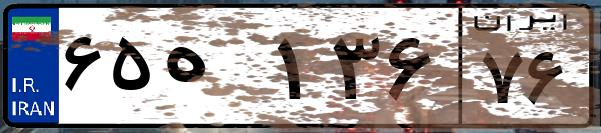1: (270, 28, 330, 110)
3: (330, 28, 385, 110)
5: (110, 28, 158, 98)
6: (385, 28, 445, 110), (57, 26, 110, 100), (525, 38, 570, 115)
7: (475, 38, 525, 113)
ه: (158, 20, 270, 120)
